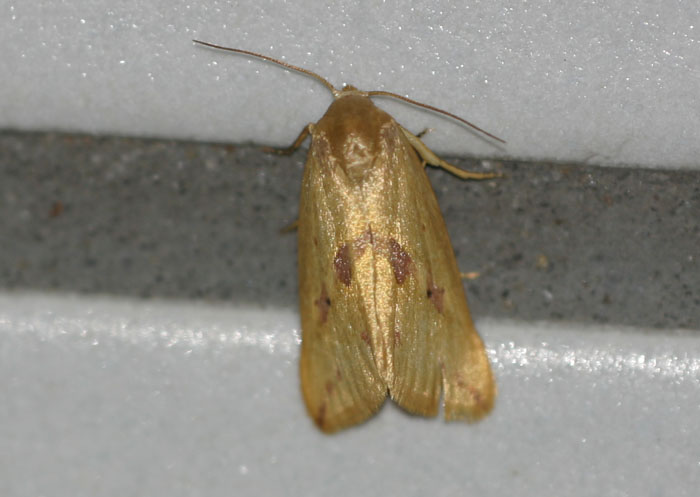Noctuidae: (192, 33, 506, 432)
